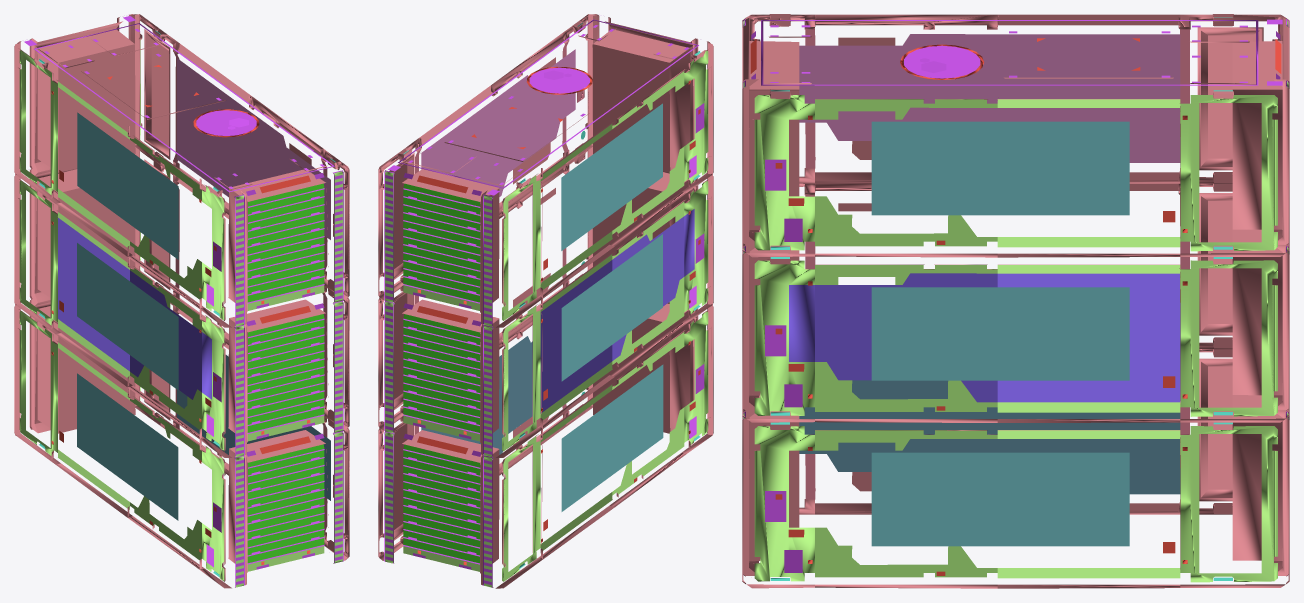
Rendered from storage_container_stack_1_b_lod1.glb.
3 renders of one model, left to right at view 1: azimuth 30°, elevation 25°; view 2: azimuth 150°, elevation 25°; view 3: azimuth 270°, elevation 25°, orthographic. The views are drawn at different scales.
Bounding box in the file's own units: 2.52 × 7.53 × 7.49.
